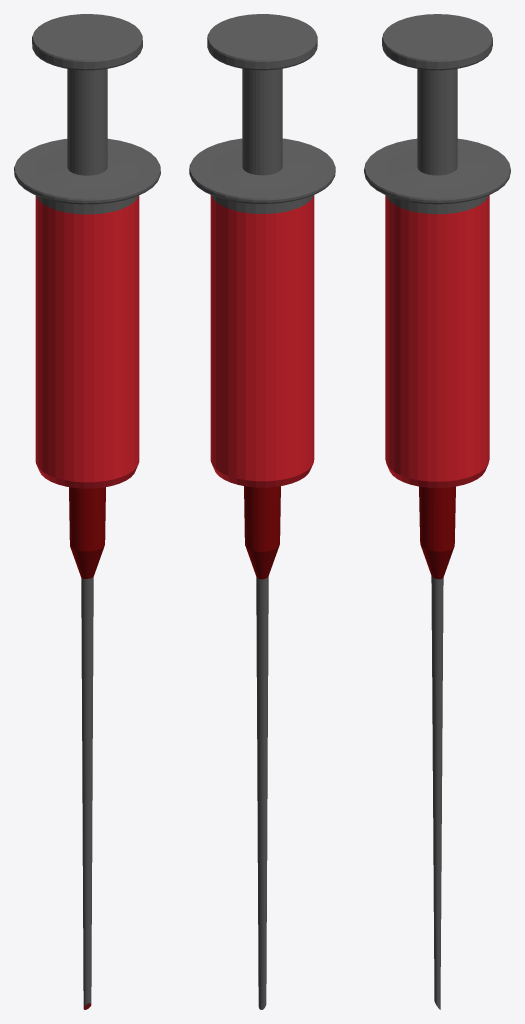
File: Syringe.fbx
3 views of the same model, side by side, from view 1: azimuth 30°, elevation 25°; view 2: azimuth 150°, elevation 25°; view 3: azimuth 270°, elevation 25° (orthographic).
Parts seen in each view (by area): view 1: Cylinder; view 2: Cylinder; view 3: Cylinder.
Boxes of the visible parts, left/top/right/bottom form: Cylinder: left=14, top=14, right=160, bottom=1009; Cylinder: left=189, top=14, right=335, bottom=1009; Cylinder: left=364, top=14, right=510, bottom=1009.
Size of the model in its own units: 178 by 1300 by 178.
